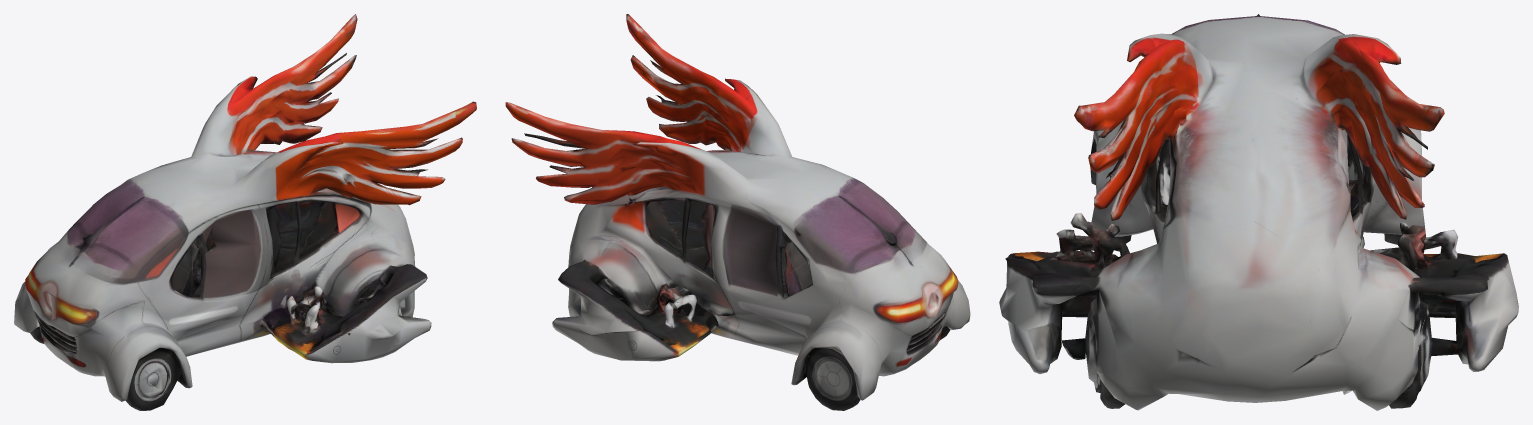
File: Car)2.fbx
The picture shows the model from 3 angles, left to right: view 1: azimuth 30°, elevation 25°; view 2: azimuth 150°, elevation 25°; view 3: azimuth 270°, elevation 25°; orthographic projection. The views are drawn at different scales.
Visible parts, largest first — view 1: Mesh_0; view 2: Mesh_0; view 3: Mesh_0.
Boxes of the visible parts, x1,y1,x2,y2 form: Mesh_0: (14, 14, 476, 410); Mesh_0: (505, 14, 970, 410); Mesh_0: (999, 14, 1518, 410).
Bounding box in the file's own units: 200 × 125 × 160.
Materials: 1 (1 with a texture image).
